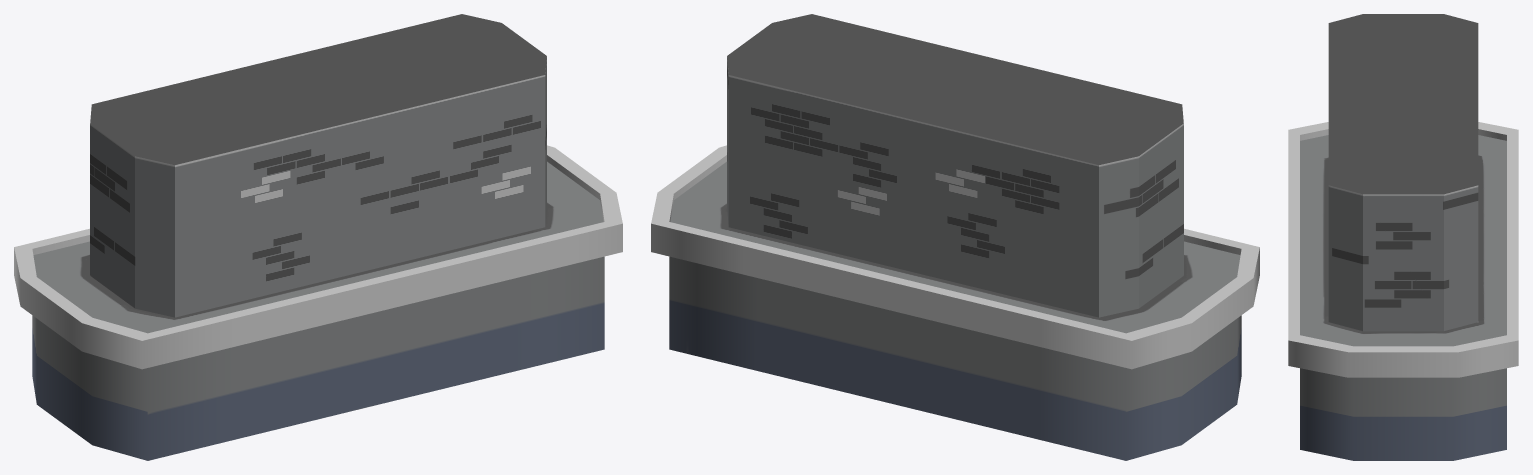
File: Bridge3Beam0.fbx
The picture shows the model from 3 angles, left to right: view 1: azimuth 30°, elevation 25°; view 2: azimuth 150°, elevation 25°; view 3: azimuth 270°, elevation 25°; orthographic projection. The views are drawn at different scales.
Visible parts, largest first — view 1: Bridge3Beam0; view 2: Bridge3Beam0; view 3: Bridge3Beam0.
Boxes of the visible parts, left/top/right/bottom form: Bridge3Beam0: left=14, top=14, right=622, bottom=460; Bridge3Beam0: left=651, top=14, right=1259, bottom=460; Bridge3Beam0: left=1288, top=14, right=1518, bottom=460.
Size of the model in its own units: 19.83 by 9.69 by 8.23.
